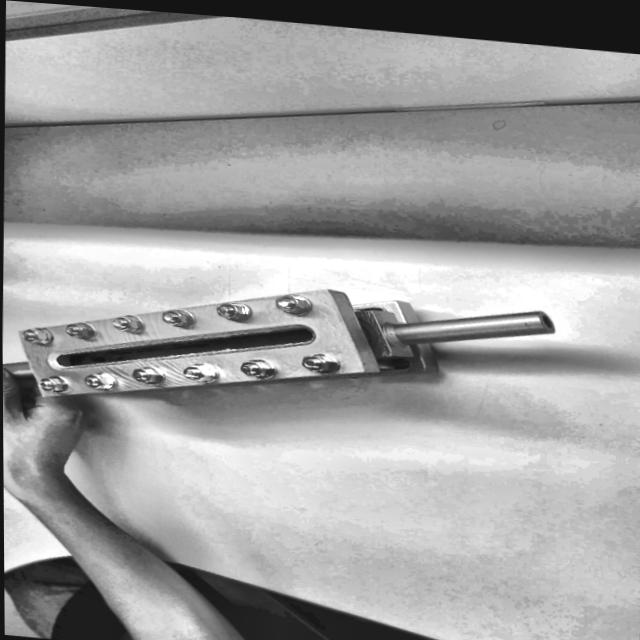ShuiWeiQi_12: (10, 254, 563, 436)
